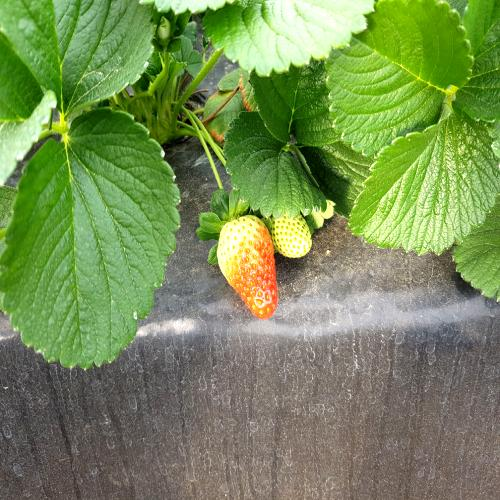partially-ripe: (212, 205, 281, 321)
